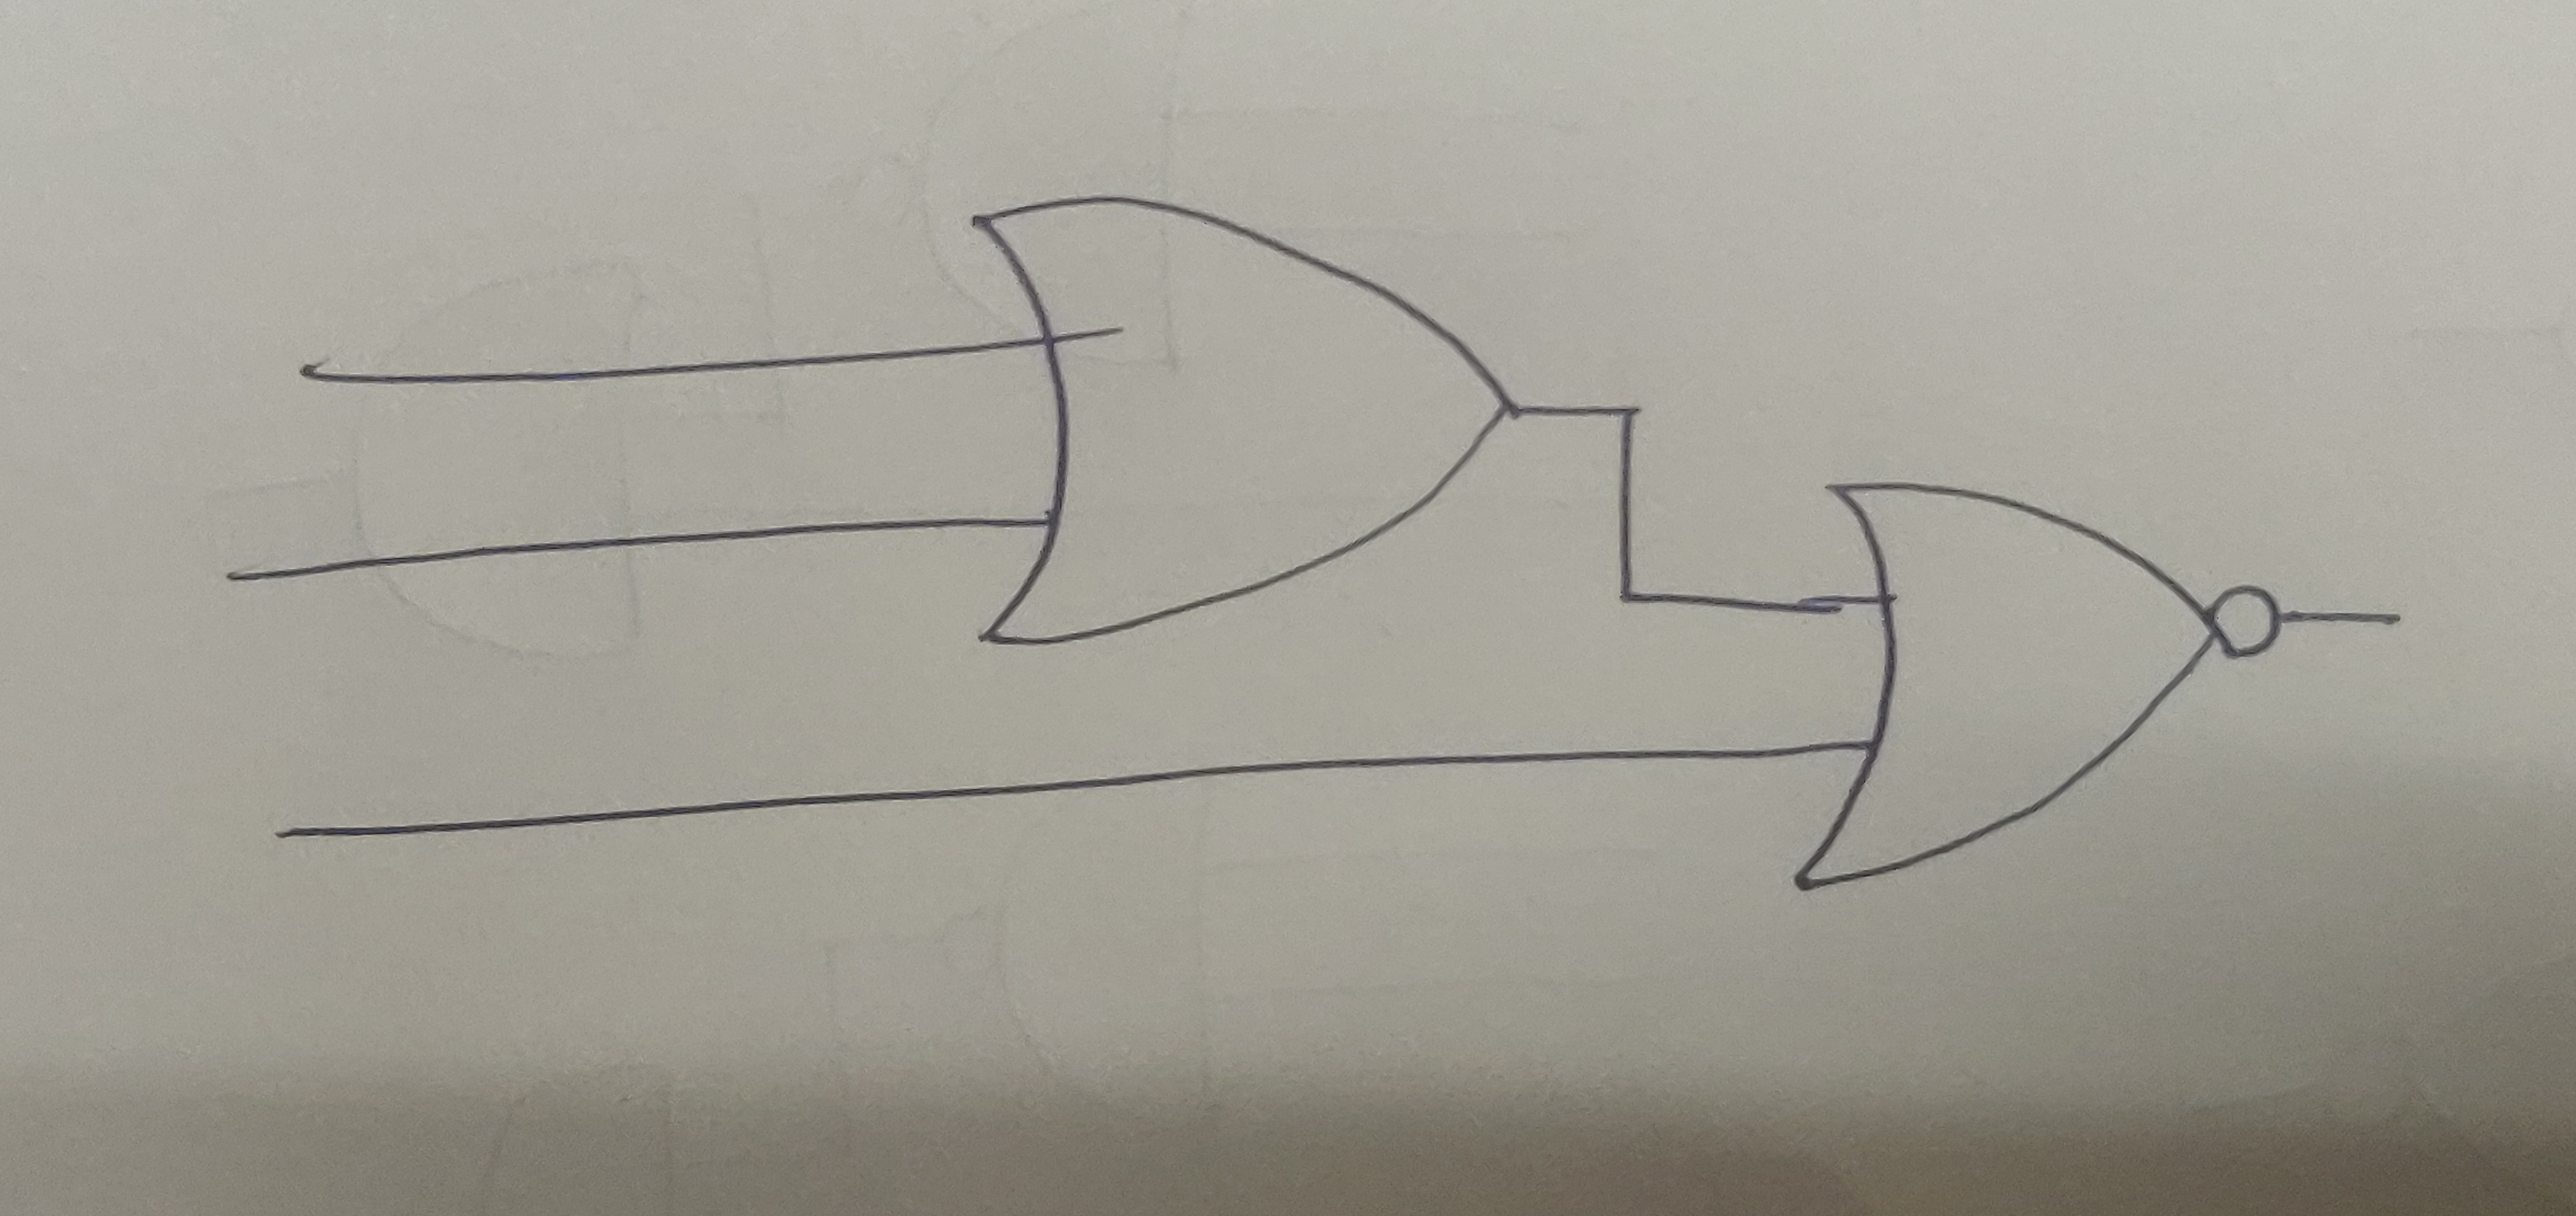not: (2208, 578, 2290, 670)
or: (956, 191, 1508, 647), (1784, 477, 2218, 897)
